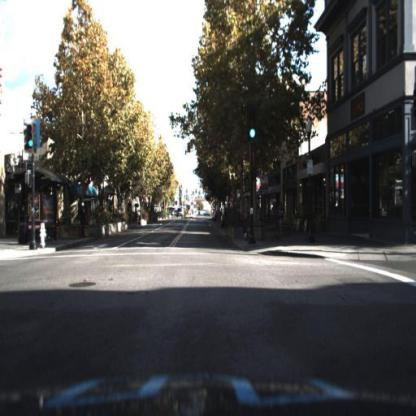pedestrian: (76, 200, 90, 243), (276, 196, 286, 231), (80, 198, 88, 241)
trafficLight: (248, 105, 261, 142)
trafficLight-Green: (247, 107, 259, 144), (25, 122, 37, 155), (27, 123, 35, 155)
